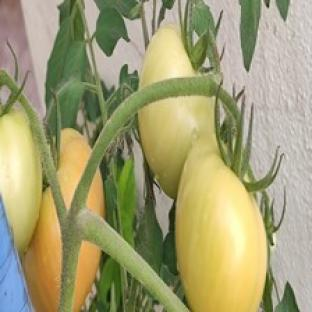Tomato: (176, 140, 267, 311), (138, 97, 214, 197), (0, 109, 41, 254), (23, 187, 61, 311)
